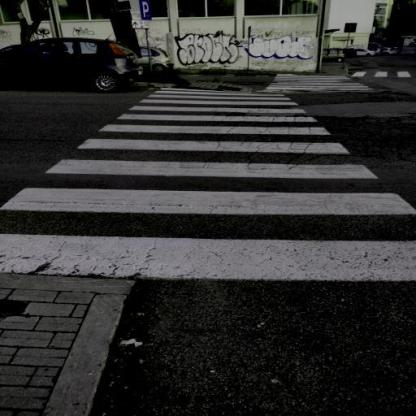crosswalk: (36, 140, 386, 186), (112, 104, 320, 125)
